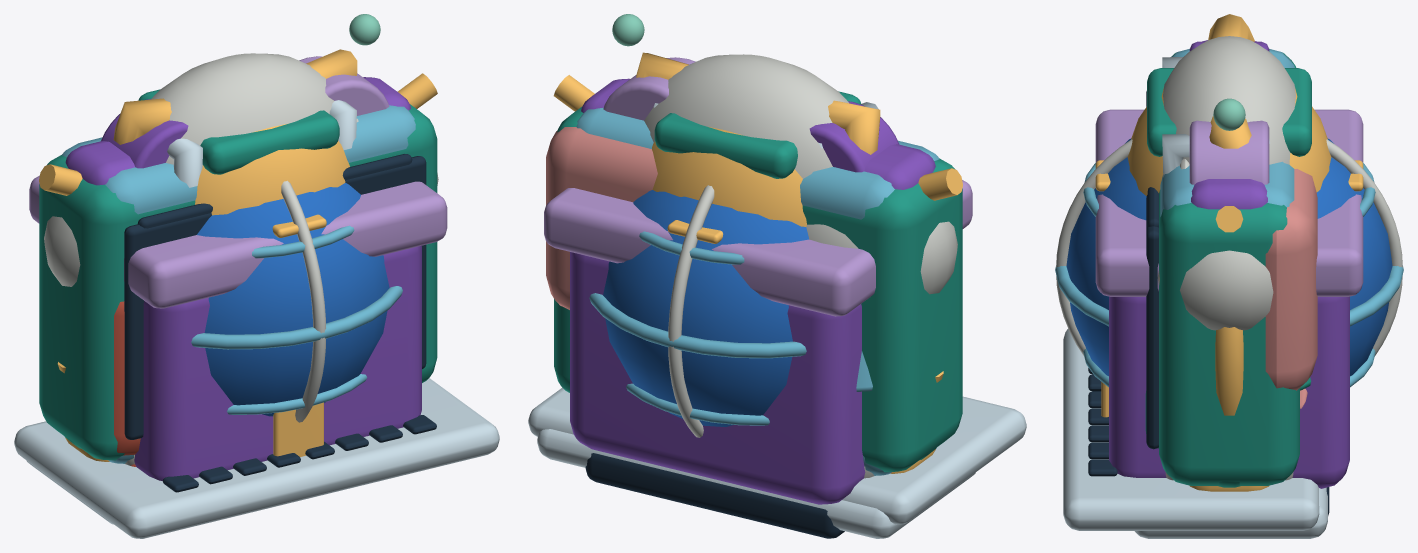
File: navigation-sculptures.raw.glb
The picture shows the model from 3 angles, left to right: view 1: azimuth 30°, elevation 25°; view 2: azimuth 150°, elevation 25°; view 3: azimuth 270°, elevation 25°; orthographic projection. The views are drawn at different scales.
Parts seen in each view (by area): view 1: era-ide, era-lottery, era-developer, era-cloud, miaoji-lab, era-oj, qifa-lab, era-git, acm-team, era-registration, era-forum; view 2: era-lottery, era-ide, era-developer, era-cloud, era-git, miaoji-lab, era-forum, era-oj, qifa-lab, era-team, acm-team; view 3: era-ide, era-lottery, era-developer, era-cloud, era-forum, qifa-lab, era-git, miaoji-lab, era-oj, acm-team, era-team, era-registration.
Part boxes in pixels (x1,y1,x2,y2): era-ide: (14,104,499,538); era-lottery: (29,49,447,480); era-developer: (57,180,402,422); era-cloud: (44,53,438,286); miaoji-lab: (39,73,437,215); era-oj: (62,105,415,463); qifa-lab: (125,14,380,465); era-git: (101,56,389,168); acm-team: (65,77,410,185); era-registration: (167,100,356,187); era-forum: (114,301,140,466); era-lottery: (544,52,972,504); era-ide: (528,107,1026,524); era-developer: (589,185,943,437); era-cloud: (644,54,957,294); era-git: (585,57,899,538); miaoji-lab: (553,75,962,226); era-forum: (546,127,657,309); era-oj: (576,108,939,475); qifa-lab: (612,14,874,478); era-team: (537,351,975,538); acm-team: (581,78,935,189); era-ide: (1063,52,1319,530); era-lottery: (1095,14,1363,488); era-developer: (1055,138,1403,415); era-cloud: (1157,36,1295,330); era-forum: (1265,169,1317,408); qifa-lab: (1147,68,1311,480); era-git: (1180,41,1329,515); miaoji-lab: (1127,88,1331,232); era-oj: (1147,48,1294,484); acm-team: (1191,40,1267,209); era-team: (1134,377,1327,538); era-registration: (1145,57,1269,448).
Size of the model in its own units: 1.58 by 1.71 by 1.19.
